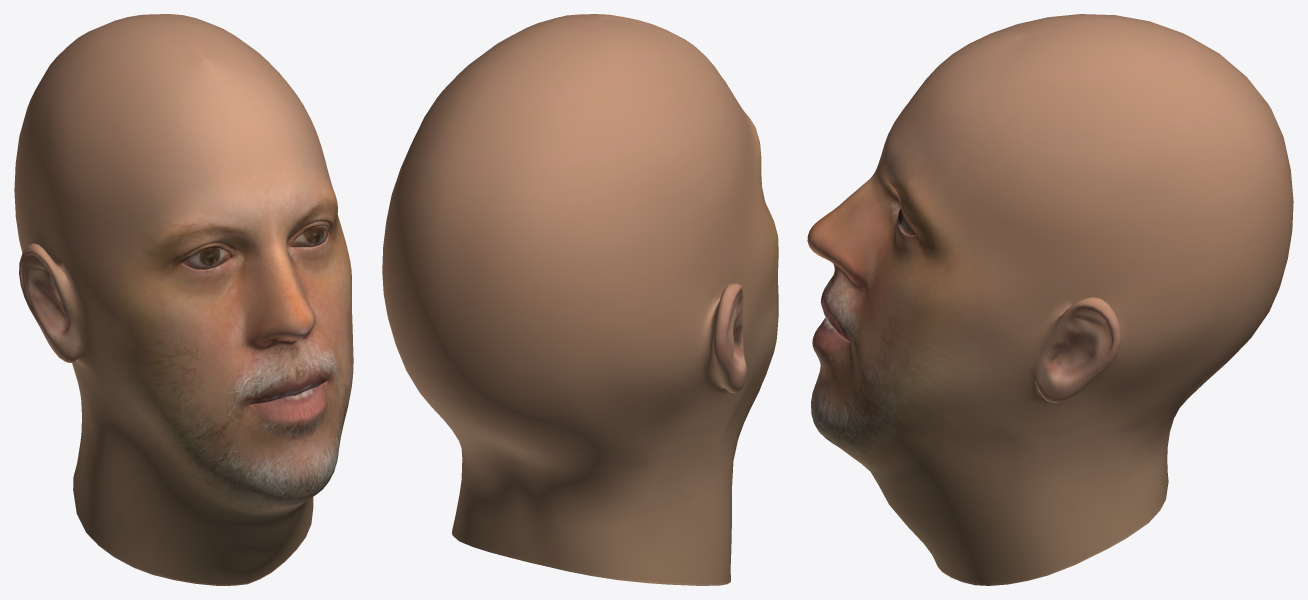
File: mbp.obj
The picture shows the model from 3 angles, left to right: view 1: azimuth 30°, elevation 25°; view 2: azimuth 150°, elevation 25°; view 3: azimuth 270°, elevation 25°; orthographic projection. The views are drawn at different scales.
Visible parts, largest first — view 1: skin_hi, eyeR_hi, eyeL_hi; view 2: skin_hi; view 3: skin_hi.
Part boxes in pixels (bbox=[...]): skin_hi: bbox=[14, 14, 353, 585]; eyeR_hi: bbox=[183, 247, 229, 269]; eyeL_hi: bbox=[290, 225, 327, 246]; skin_hi: bbox=[382, 14, 778, 585]; skin_hi: bbox=[807, 14, 1293, 585].
Bounding box in the file's own units: 172 × 282 × 233.
7 materials, 7 textured.
